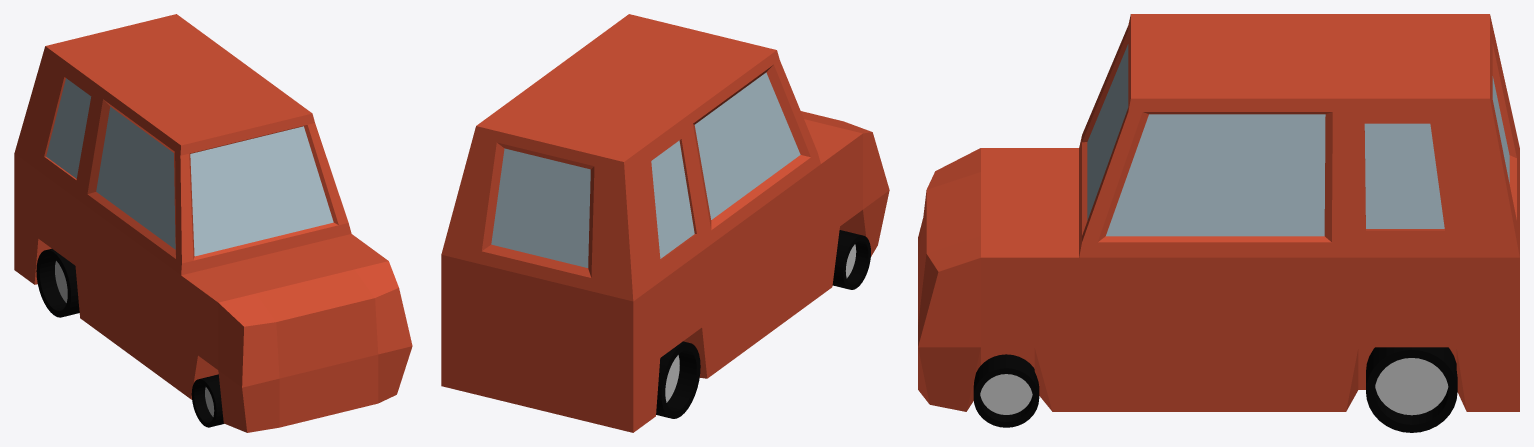
The model's file is Car.fbx.
3 renders of one model, left to right at view 1: azimuth 30°, elevation 25°; view 2: azimuth 150°, elevation 25°; view 3: azimuth 270°, elevation 25°, orthographic. The views are drawn at different scales.
Visible parts, largest first — view 1: Cube; view 2: Cube; view 3: Cube.
Part boxes in pixels (box(x1,y1,x2,y2)): Cube: box(14, 14, 412, 432); Cube: box(441, 14, 889, 432); Cube: box(918, 14, 1519, 432).
Bounding box in the file's own units: 2.08 × 2.72 × 4.63.
